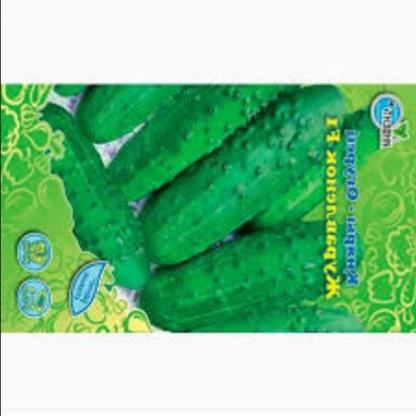cucumber: (74, 70, 363, 347)
